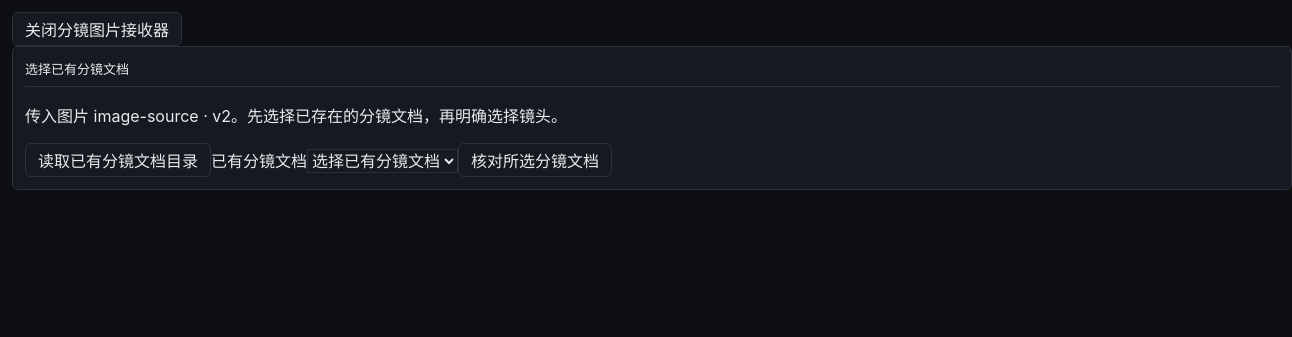
Scenario: direct existing-storyboard recipient wrapper fences › blocks retained read/select closures after selection ABA without extra GETs
Click the button "读取已有分镜文档目录". click: (118, 160)
box: [25, 143, 211, 177]
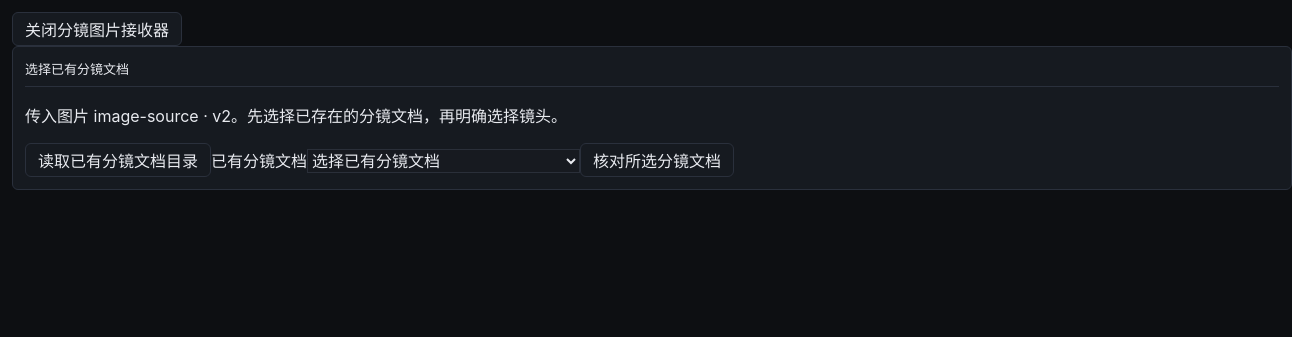
Select "Private existing storyboard A · v4" in the dropdown labelled "已有分镜文档". click: (444, 161)
box: [307, 149, 580, 173]
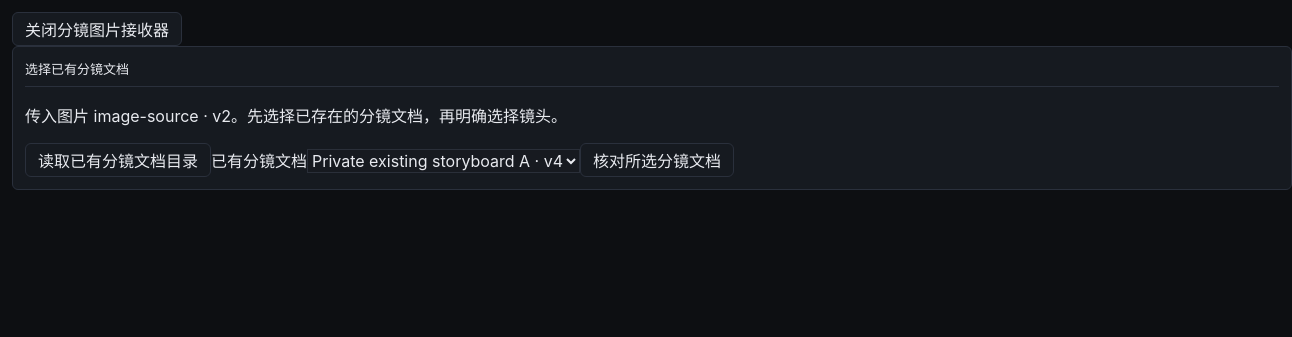
Select "Private existing storyboard B · v4" in the dropdown labelled "已有分镜文档". click: (444, 161)
box: [307, 149, 580, 173]
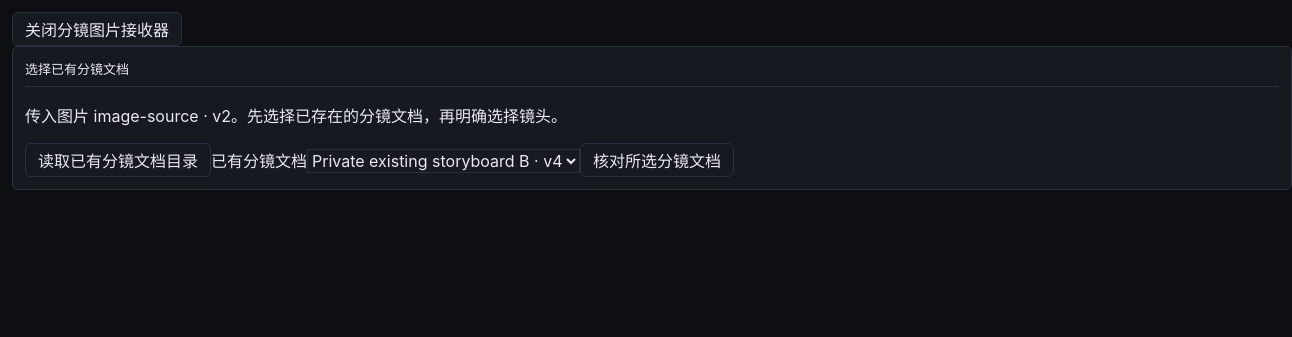
Select "Private existing storyboard A · v4" in the dropdown labelled "已有分镜文档". click: (444, 161)
box: [307, 149, 580, 173]
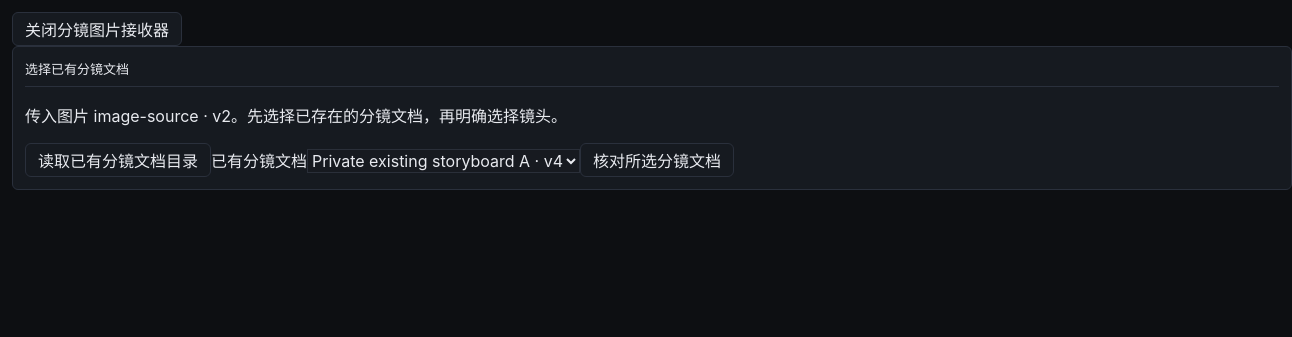
Click the button "核对所选分镜文档". click: (657, 160)
box: [580, 143, 734, 177]
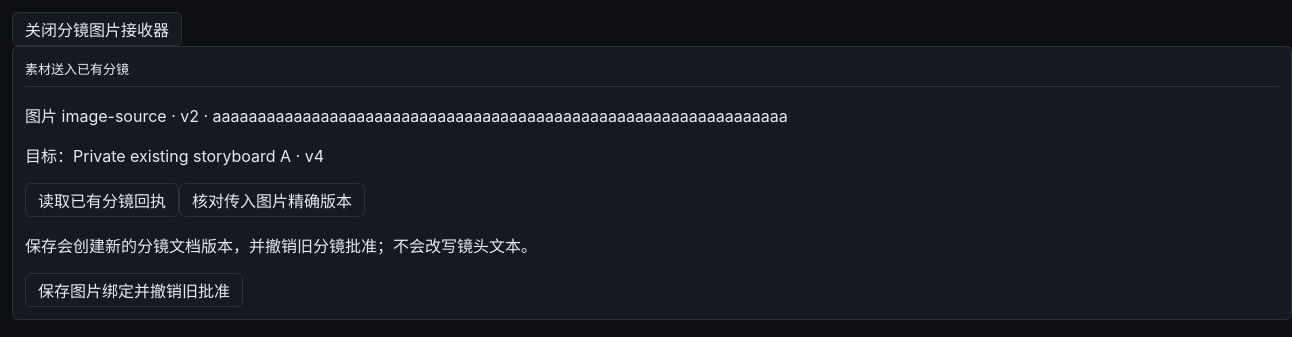
Expected: the button "读取已有分镜回执" is shown, [25, 183, 179, 217]
